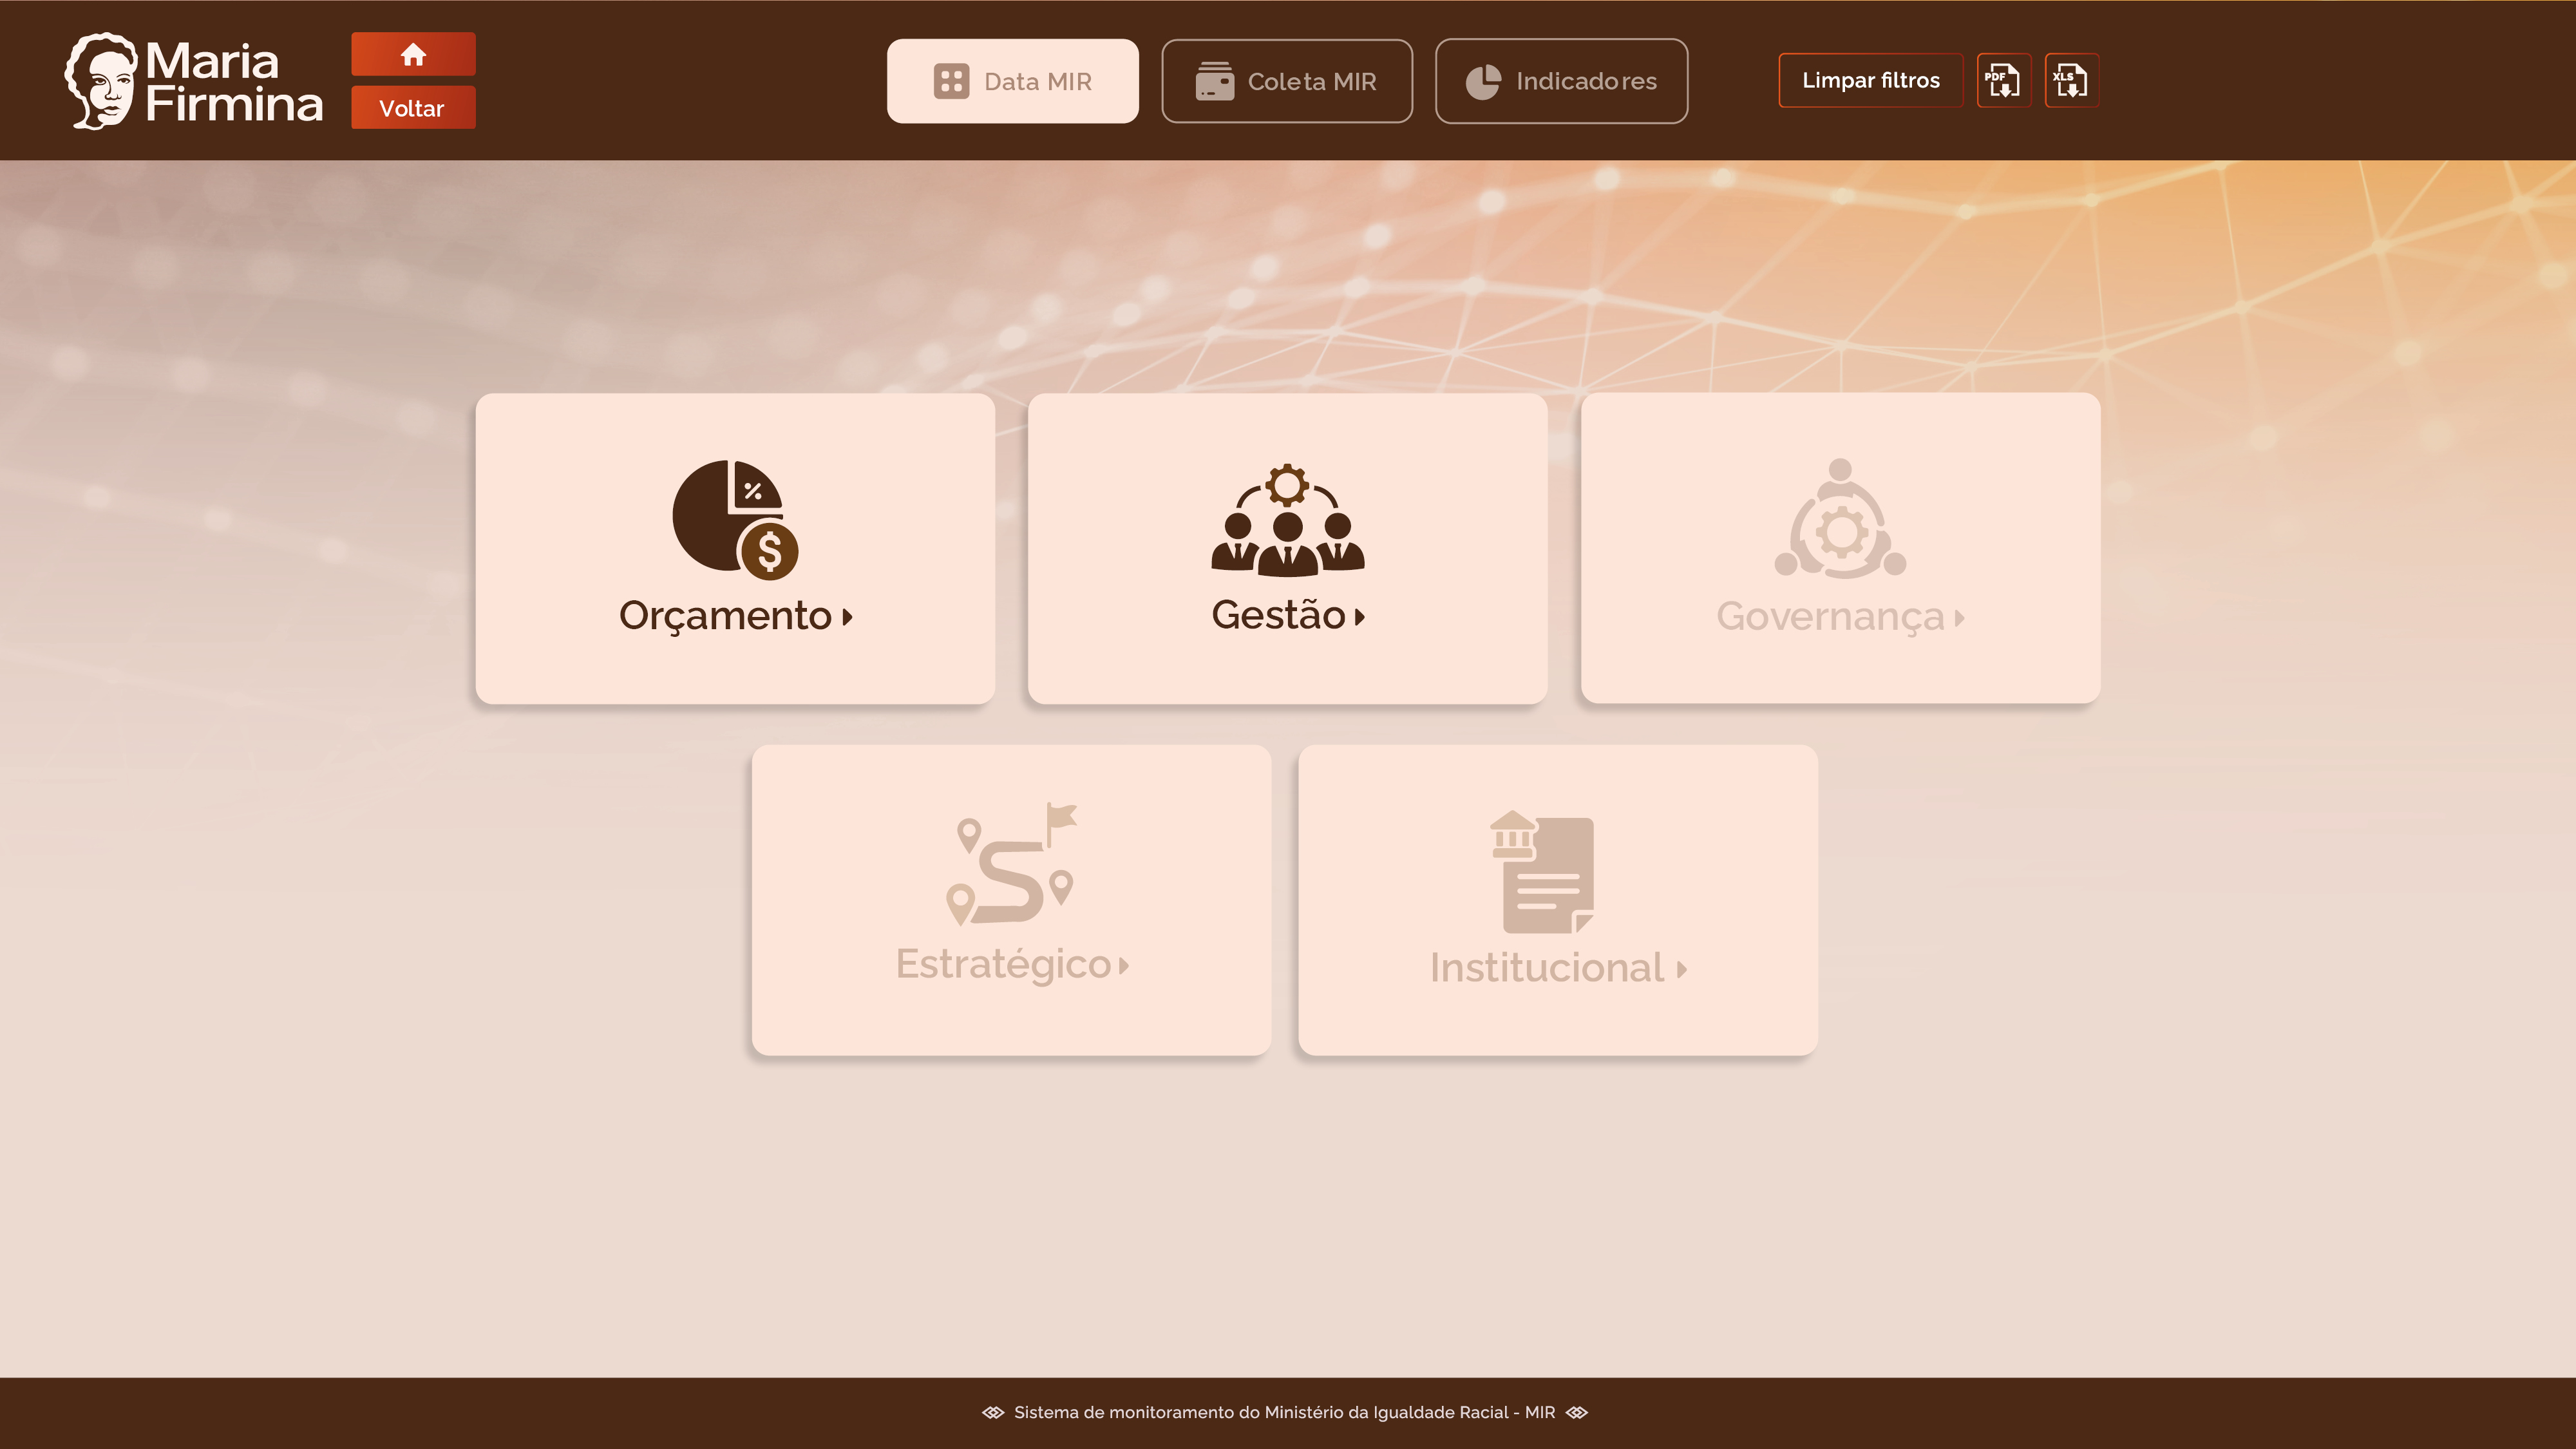

The dashboard page shown, as its layout file describes it:
{"tool":"powerbi","page":{"name":"sel_dimensoes","canvas":[1920,1080],"ordinal":2},"visuals":[{"type":"actionButton","box":[352.5,292.6,388.4,232.8],"z":0},{"type":"actionButton","box":[261.5,62,94.3,32.9],"z":1000},{"type":"actionButton","box":[261.7,22.8,92.2,33.3],"z":2000},{"type":"textbox","box":[1642.6,29.3,167.6,71.8],"z":3000},{"type":"actionButton","box":[1326.7,40.7,137.8,38.9],"z":4000},{"type":"image","box":[1820,42,53.3,37.8],"z":5000},{"type":"actionButton","box":[661.3,28.7,187.3,62.7],"z":6000},{"type":"actionButton","box":[866,28.7,187.3,62.7],"z":7000},{"type":"actionButton","box":[1069.3,30,187.3,62.7],"z":8000},{"type":"actionButton","box":[766.8,291.6,386.1,229.5],"z":9000},{"type":"actionButton","box":[1179.9,290.2,386.1,234.9],"z":10000}]}

Visuals, with their boxes in screenshot pixels (x1, y1, x2, y2), scaled from the page's 1920x1080 canvas onto the 2576x1449 screenshot:
actionButton: [x1=473, y1=393, x2=994, y2=705]
actionButton: [x1=351, y1=83, x2=477, y2=128]
actionButton: [x1=351, y1=31, x2=475, y2=75]
textbox: [x1=2204, y1=39, x2=2429, y2=136]
actionButton: [x1=1780, y1=55, x2=1965, y2=107]
image: [x1=2442, y1=57, x2=2514, y2=107]
actionButton: [x1=887, y1=39, x2=1139, y2=122]
actionButton: [x1=1162, y1=39, x2=1413, y2=122]
actionButton: [x1=1435, y1=41, x2=1686, y2=124]
actionButton: [x1=1029, y1=392, x2=1547, y2=699]
actionButton: [x1=1583, y1=390, x2=2101, y2=705]
